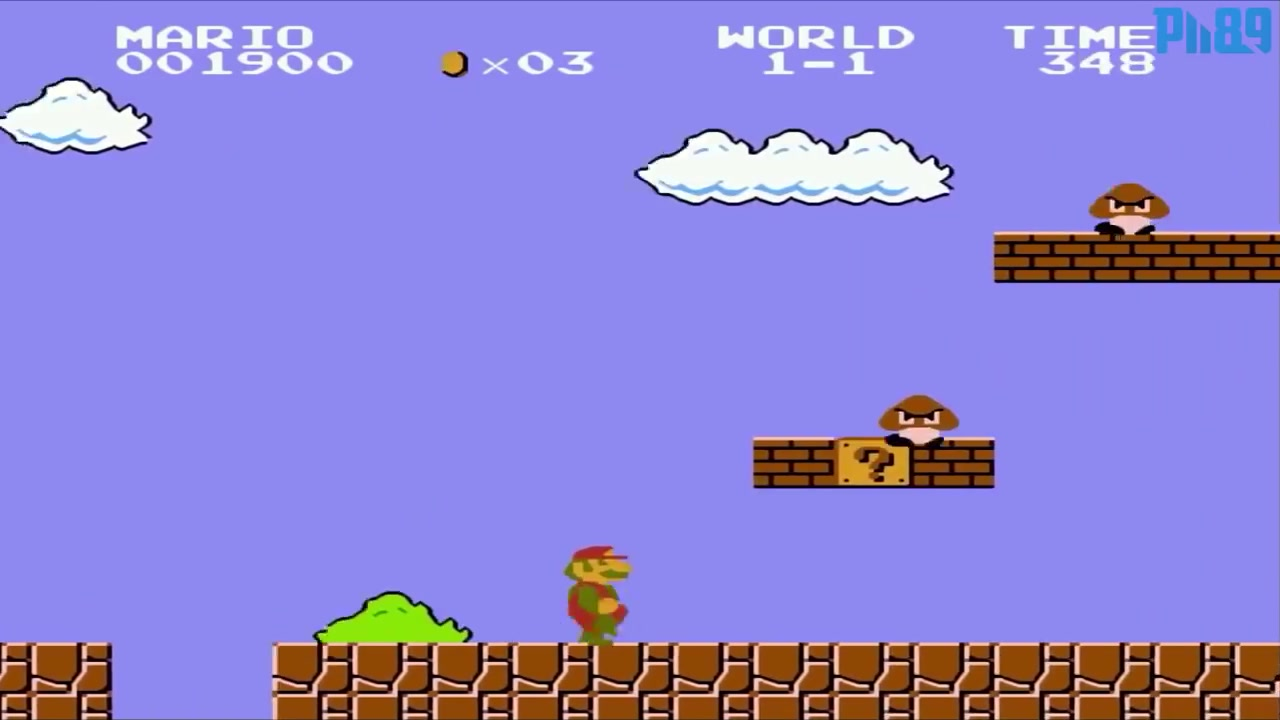mario: (552, 536, 638, 650)
